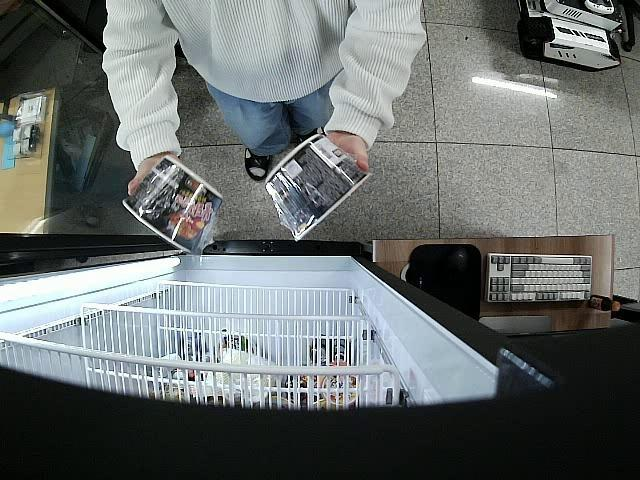07_buldak_L: (265, 132, 372, 242), (122, 156, 225, 258)
